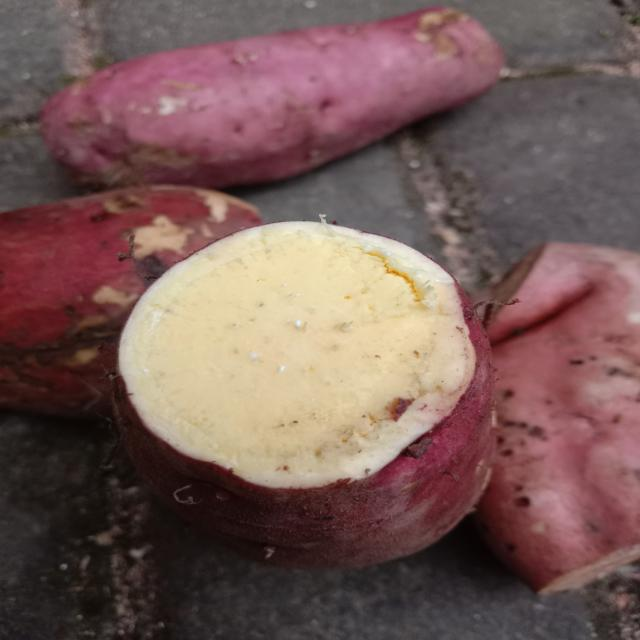Healthy Sweet Potato: (118, 221, 475, 488)
